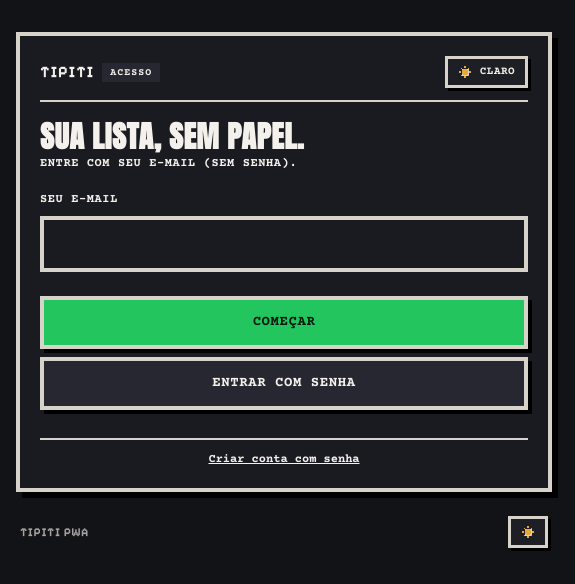
Test: LoginPage › explains email rate limit without exposing Supabase text
In the field labelled "Seu e-mail": (284,244) [40,216,528,272], type "ana@example.com"
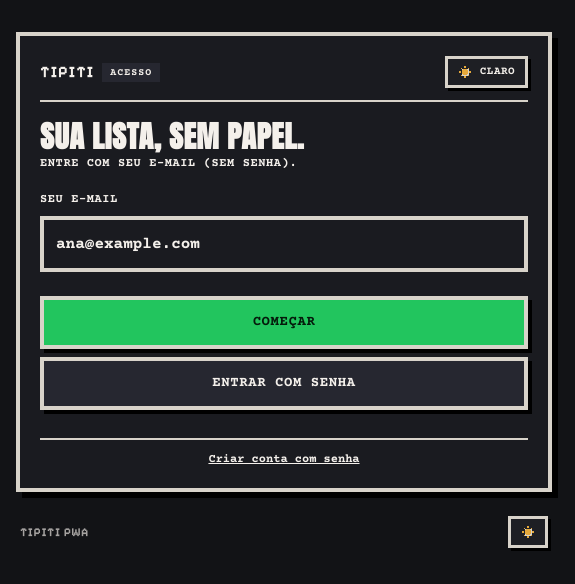
Click the button "Começar": (284,322) [40,296,528,349]
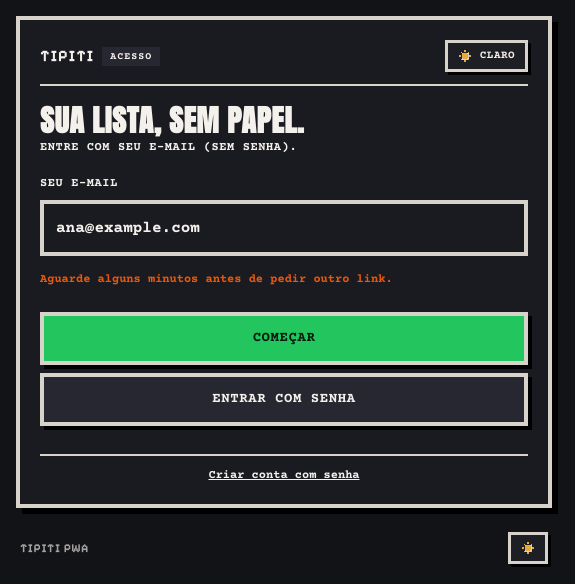
Now the message reads "Aguarde alguns minutos antes de pedir outro link.", box [40,273,393,286]
